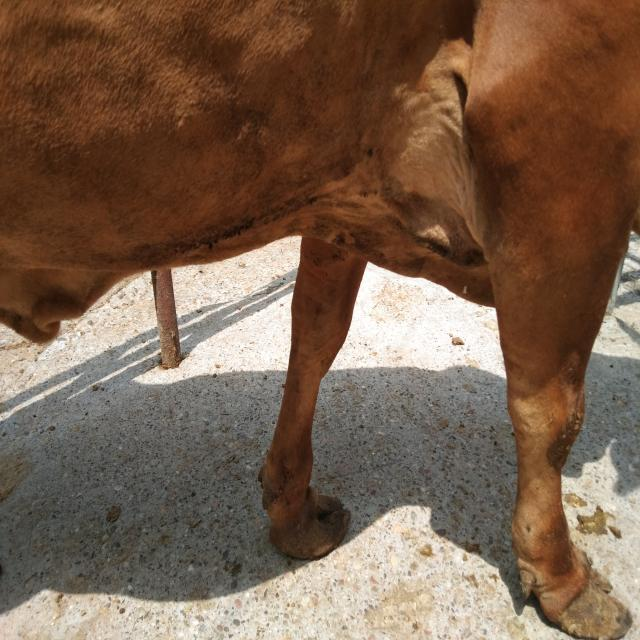Hoof: (516, 543, 632, 639), (267, 485, 351, 560)
